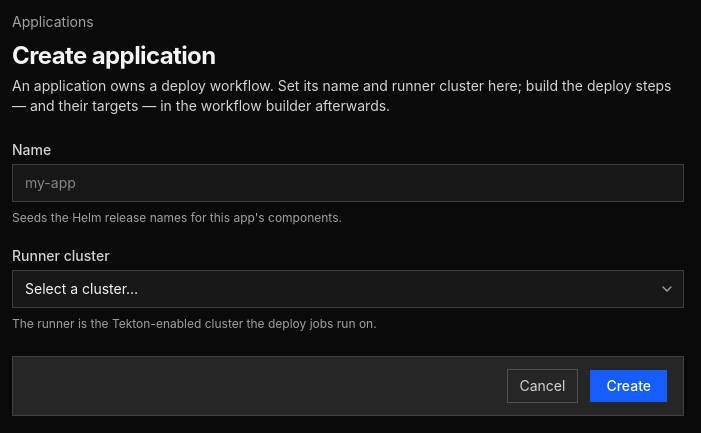
Scenario: ApplicationForm create mode › surfaces a create error
Step 1. Type "api" into the field labelled "Name" → (348, 183), box [12, 164, 684, 202]
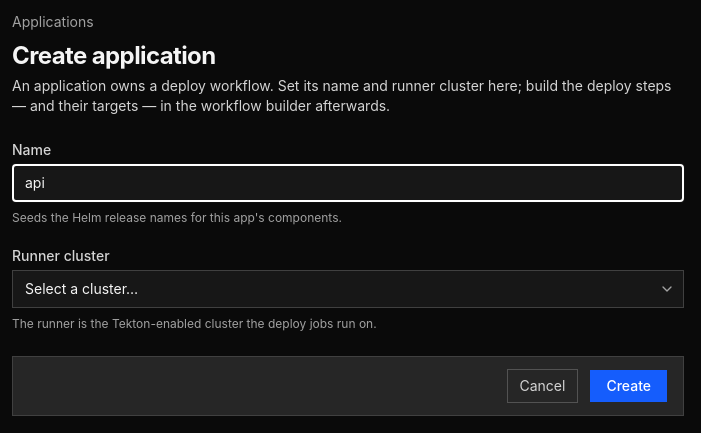
Step 2. Select "ci" in the dropdown labelled "Runner cluster" → (348, 289), box [12, 270, 684, 308]
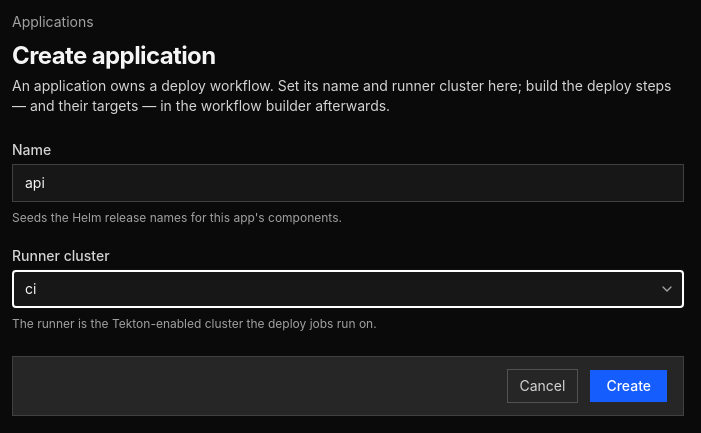
Step 3. Click the button "Create" → (629, 386), box [590, 370, 667, 402]
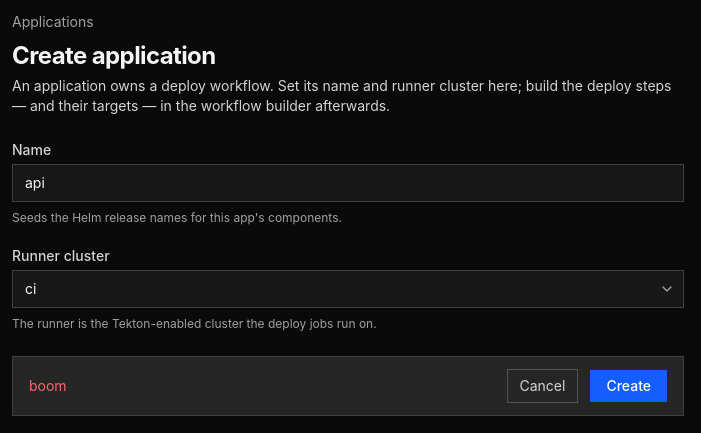
Result: the text "boom" is shown at [29, 376, 67, 396]
